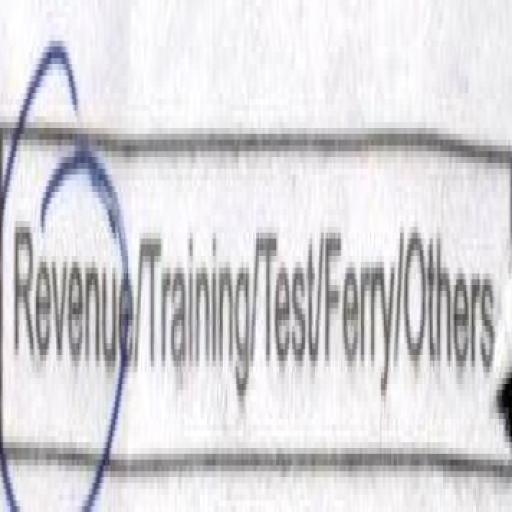check: (1, 23, 132, 512)
